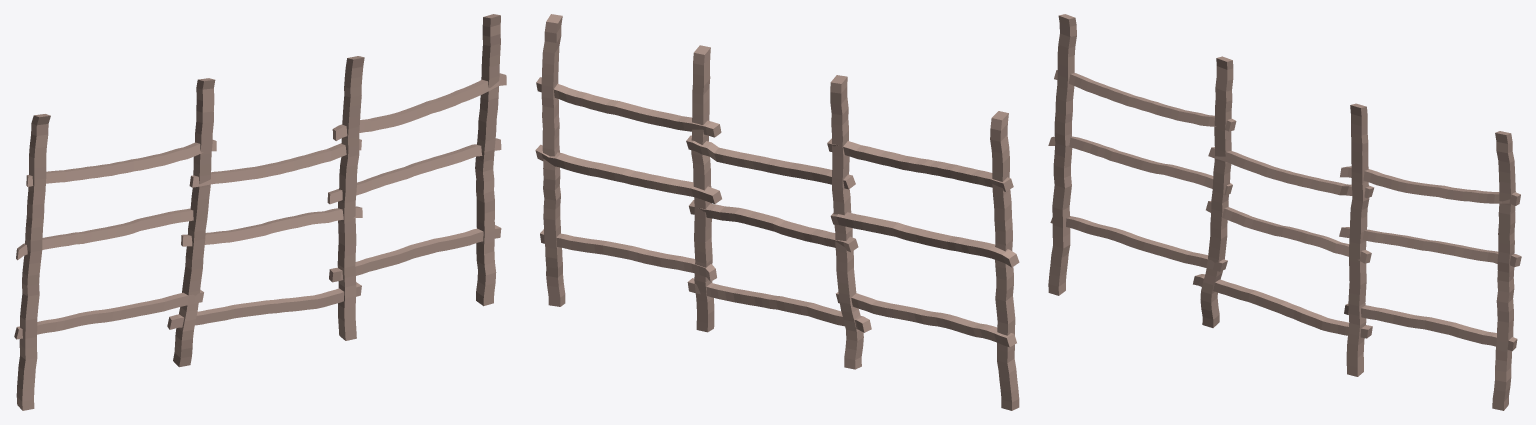
Rendered from woodfence.glb.
The picture shows the model from 3 angles, left to right: view 1: azimuth 30°, elevation 25°; view 2: azimuth 150°, elevation 25°; view 3: azimuth 330°, elevation 25°; orthographic projection. The views are drawn at different scales.
Visible parts, largest first — view 1: group1881763539, group1089417546, group509803113, group834765214, group888479429, group697254491, group667630788, group567789167, group1502856523, group416828398, group1917774647, group1302508224 (+1 smaller); view 2: group1881763539, group1089417546, group834765214, group509803113, group416828398, group438554861, group567789167, group667630788, group697254491, group888479429, group1502856523, group1302508224 (+1 smaller); view 3: group1881763539, group1089417546, group509803113, group834765214, group888479429, group697254491, group567789167, group1502856523, group667630788, group416828398, group438554861, group1302508224 (+1 smaller).
Boxes of the visible parts, x1,y1,x2,y2 form: group1881763539: (16,114,50,410); group1089417546: (475,14,500,306); group509803113: (337,56,364,340); group834765214: (173,78,215,367); group888479429: (167,282,361,329); group697254491: (14,290,203,339); group667630788: (332,73,506,140); group567789167: (26,140,216,186); group1502856523: (329,225,501,282); group416828398: (16,208,193,260); group1917774647: (181,206,362,246); group1302508224: (189,139,361,187); group1881763539: (990,111,1019,410); group1089417546: (541,14,565,306); group834765214: (830,75,863,369); group509803113: (691,45,714,332); group416828398: (830,212,1019,267); group438554861: (535,144,721,203); group567789167: (827,138,1013,191); group667630788: (536,77,721,137); group697254491: (836,292,1016,347); group888479429: (687,278,871,332); group1502856523: (540,229,716,281); group1302508224: (686,135,855,189); group1881763539: (1048,14,1076,295); group1089417546: (1492,131,1515,410); group509803113: (1346,103,1369,376); group834765214: (1200,56,1233,327); group888479429: (1193,274,1372,338); group697254491: (1050,216,1227,271); group567789167: (1054,70,1236,131); group1502856523: (1344,304,1517,351); group667630788: (1340,166,1520,205); group416828398: (1048,136,1232,195); group438554861: (1339,227,1521,267); group1302508224: (1208,147,1374,198).
Size of the model in its own units: 3.07 by 1.81 by 0.2065.
